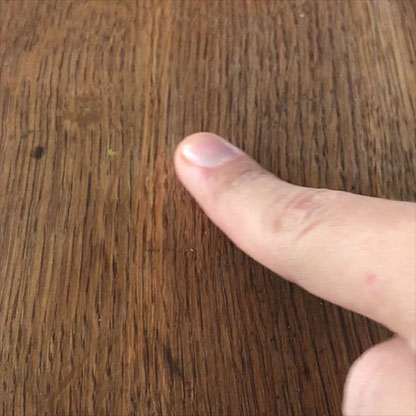fingertip: (155, 121, 263, 192)
